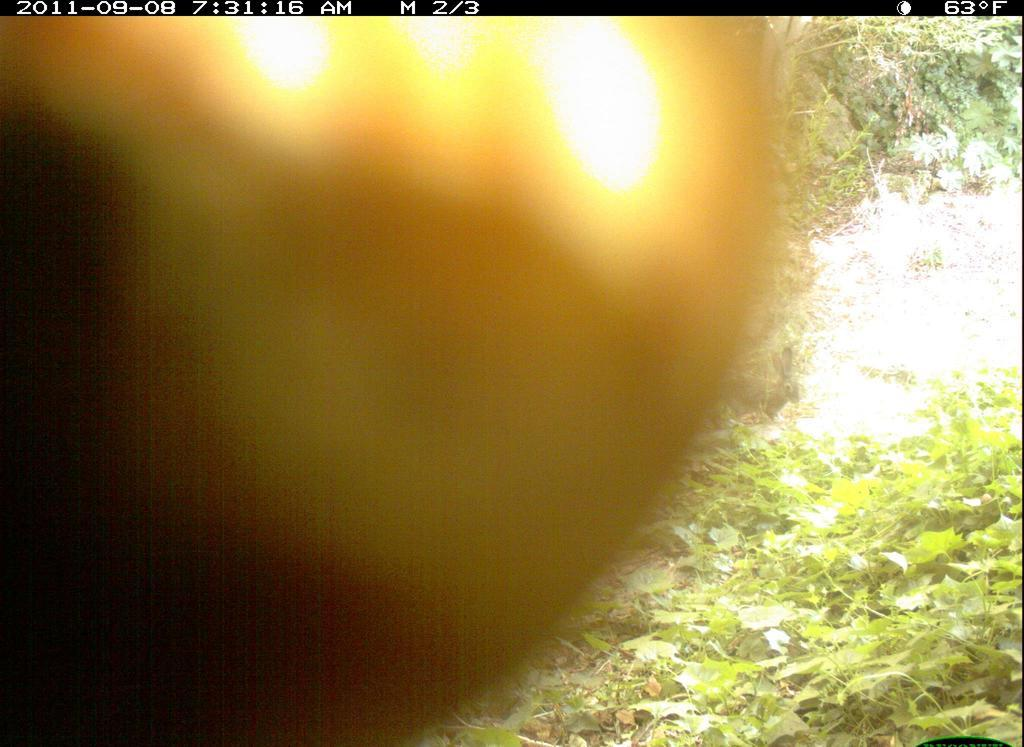rabbit: (2, 13, 776, 747)
